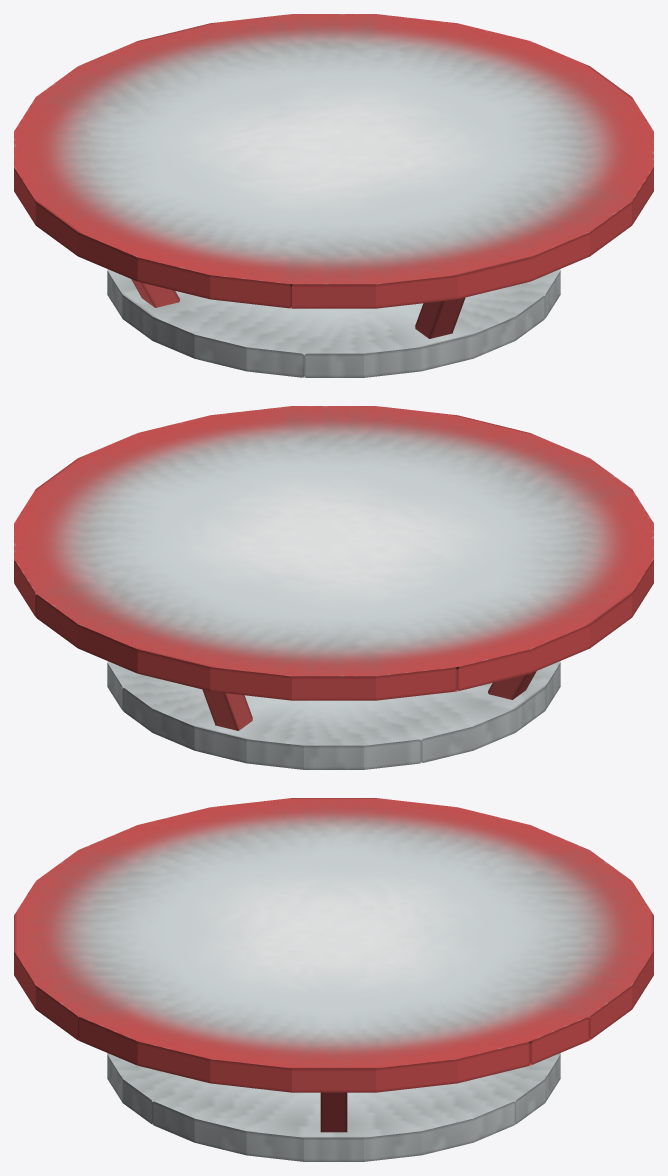
File: sumoPlat.obj
The picture shows the model from 3 angles, top to bottom: view 1: azimuth 30°, elevation 25°; view 2: azimuth 150°, elevation 25°; view 3: azimuth 270°, elevation 25°; orthographic projection.
Parts seen in each view (by area): view 1: cylinder, cuboid; view 2: cylinder, cuboid; view 3: cylinder, cuboid.
Part boxes in pixels (bbox=[...]): cylinder: bbox=[14, 14, 653, 377]; cuboid: bbox=[131, 279, 465, 338]; cylinder: bbox=[14, 406, 653, 769]; cuboid: bbox=[202, 671, 536, 730]; cylinder: bbox=[14, 798, 653, 1161]; cuboid: bbox=[320, 1092, 347, 1132].
Bounding box in the file's own units: 3 × 0.6875 × 3.
Materials: 1 (1 with a texture image).
